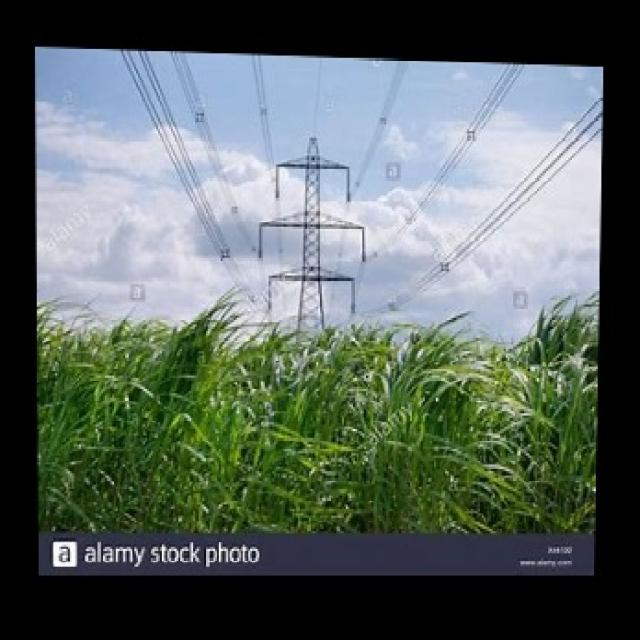utility poles: (260, 132, 360, 531)
